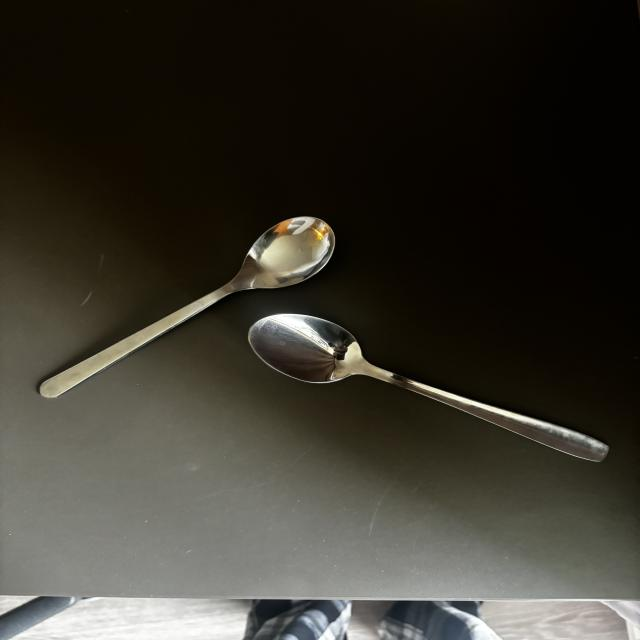spoon: (35, 216, 338, 401), (246, 314, 612, 466)
